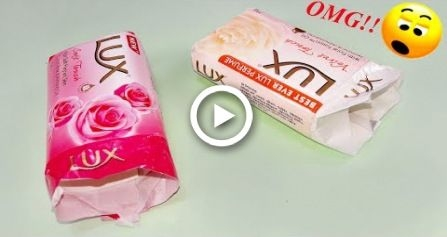paper: (31, 24, 191, 230), (186, 6, 402, 155)
